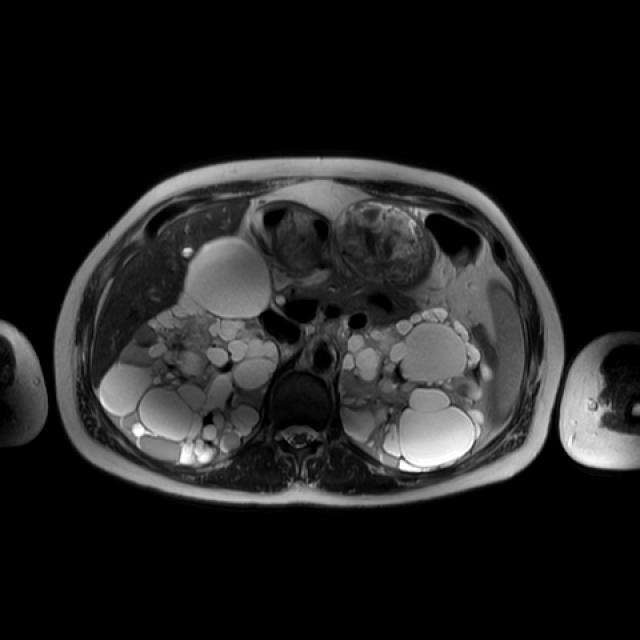sag: (101, 238, 282, 466)
sol: (339, 308, 498, 469)
